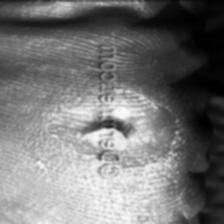Toxin: (114, 122, 132, 148), (84, 125, 103, 147)
